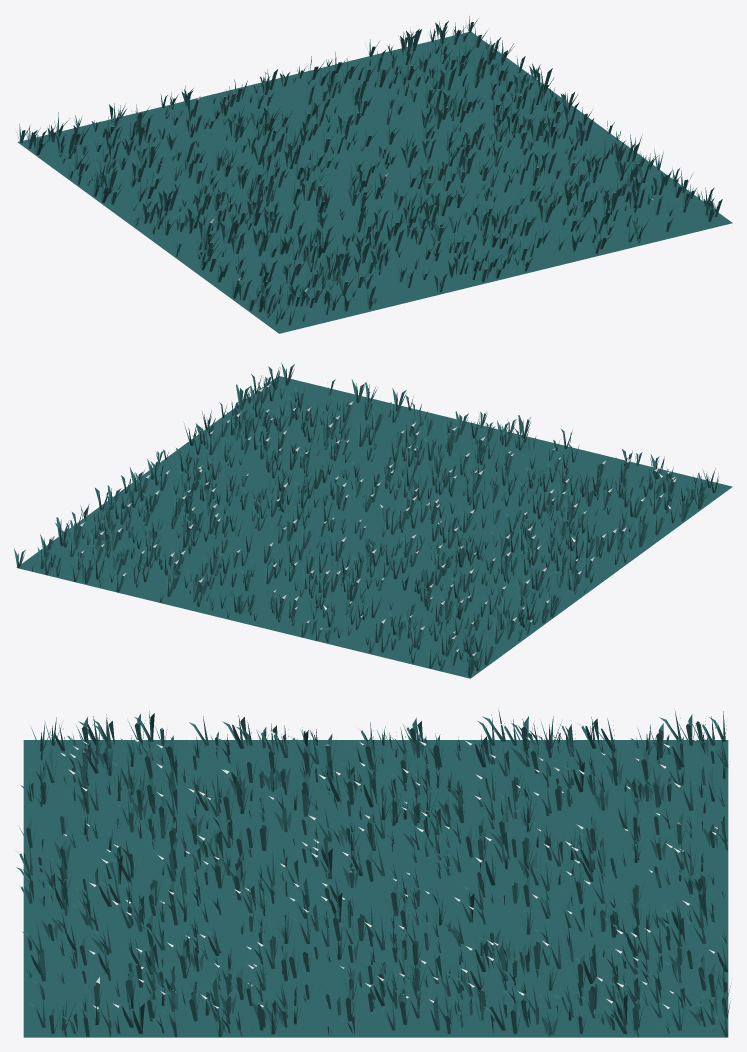
The model's file is ResourceBeforeFloor.fbx.
3 renders of one model, top to bottom at view 1: azimuth 30°, elevation 25°; view 2: azimuth 150°, elevation 25°; view 3: azimuth 270°, elevation 25°, orthographic. The views are drawn at different scales.
Parts seen in each view (by area): view 1: Plane.001; view 2: Plane.001; view 3: Plane.001.
Boxes of the visible parts, <box> form: Plane.001: <box>16,16,732,333</box>; Plane.001: <box>14,362,732,678</box>; Plane.001: <box>15,708,730,1037</box>.
Bounding box in the file's own units: 156 × 7.9 × 155.
